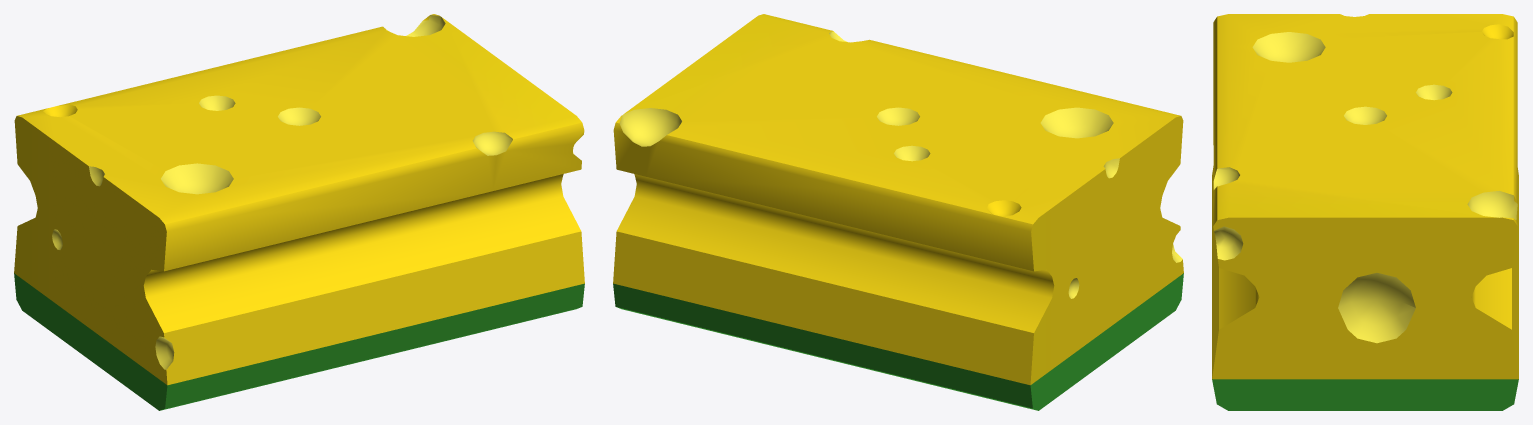
The model's file is Sponge.fbx.
3 renders of one model, left to right at view 1: azimuth 30°, elevation 25°; view 2: azimuth 150°, elevation 25°; view 3: azimuth 270°, elevation 25°, orthographic.
Visible parts, largest first — view 1: Sponge; view 2: Sponge; view 3: Sponge.
Boxes of the visible parts, left/top/right/bottom form: Sponge: left=14, top=14, right=584, bottom=410; Sponge: left=613, top=14, right=1183, bottom=410; Sponge: left=1212, top=14, right=1518, bottom=410.
Size of the model in its own units: 209 by 92.24 by 133.
